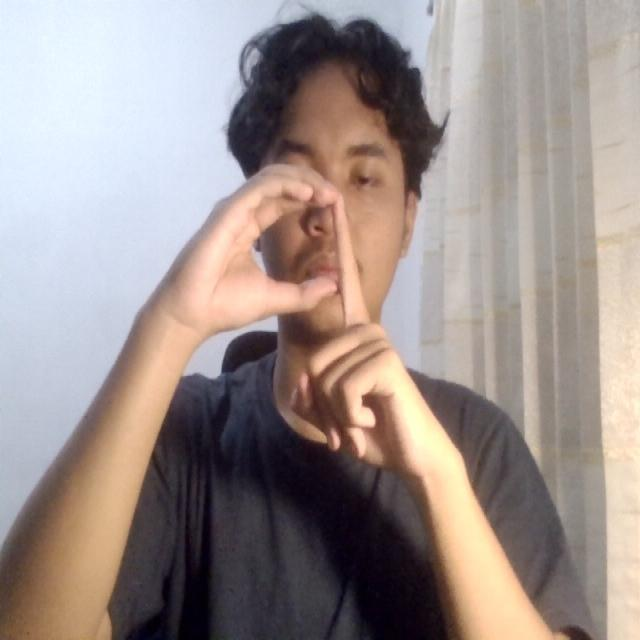D: (194, 153, 438, 484)
